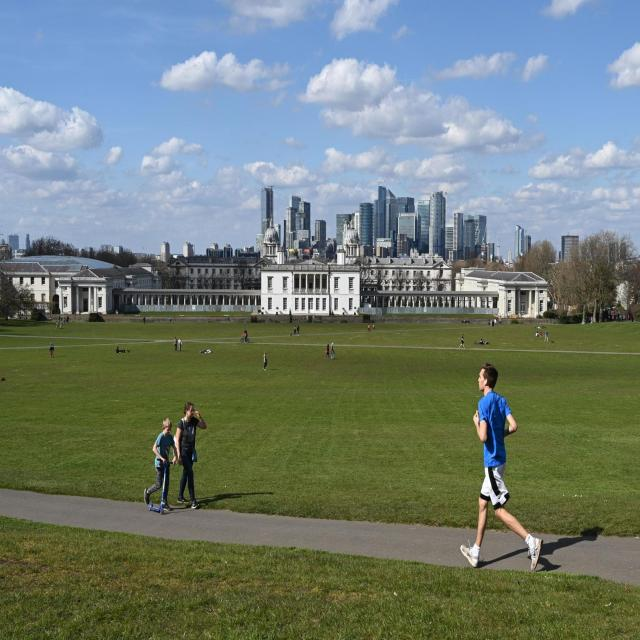Walking: (458, 371, 546, 567), (170, 400, 204, 497), (146, 416, 174, 508)
human: (457, 346, 547, 581), (171, 397, 205, 511), (146, 414, 178, 514), (478, 393, 512, 466), (155, 432, 176, 465), (482, 363, 498, 388), (259, 348, 270, 372), (330, 342, 336, 360), (324, 344, 330, 360), (50, 341, 56, 357), (263, 352, 268, 371), (459, 334, 465, 348), (243, 330, 248, 342), (174, 337, 178, 351), (178, 338, 182, 351), (241, 334, 246, 344), (544, 330, 548, 341), (296, 326, 300, 337), (55, 320, 59, 329), (294, 325, 297, 336), (142, 316, 146, 324), (58, 316, 61, 326), (60, 318, 63, 328), (479, 338, 484, 344), (116, 346, 120, 353), (536, 331, 540, 338), (494, 317, 497, 326), (372, 323, 376, 329), (290, 311, 292, 323), (581, 320, 585, 326), (488, 319, 491, 326), (492, 319, 495, 326), (65, 317, 68, 324), (368, 323, 370, 333), (539, 332, 542, 338), (115, 309, 118, 315), (290, 329, 292, 337), (628, 314, 630, 322), (169, 316, 171, 322), (228, 316, 230, 322)
